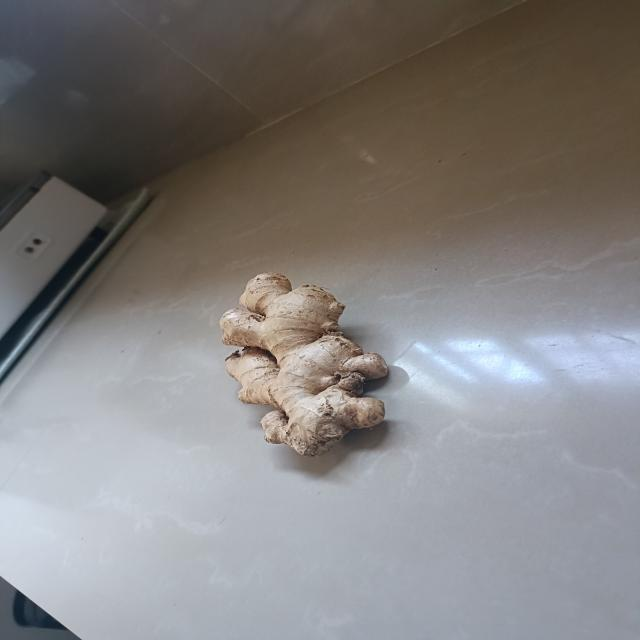ginger: (223, 271, 390, 456)
